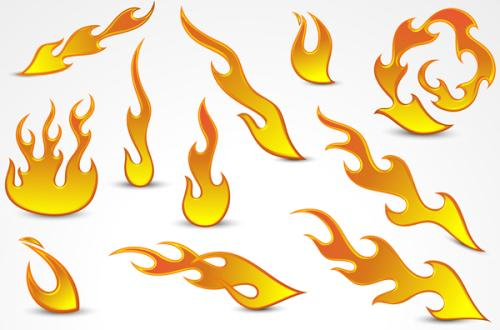fire: (11, 115, 94, 216), (187, 116, 226, 226)
